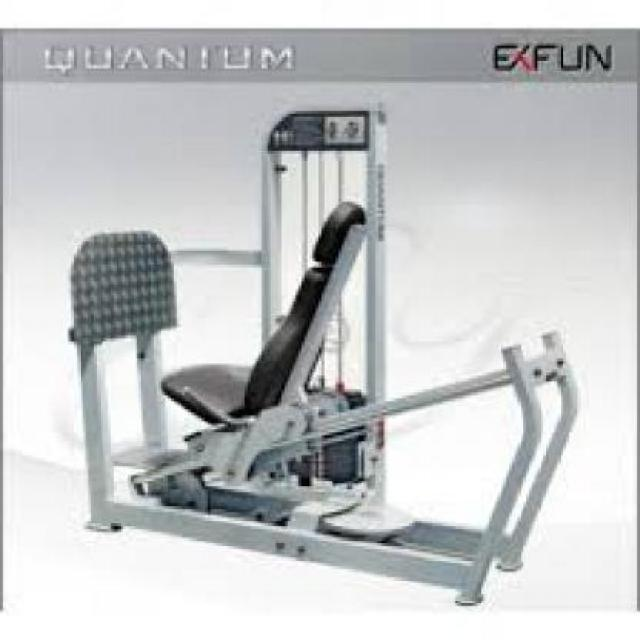leg press: (54, 97, 640, 640)
